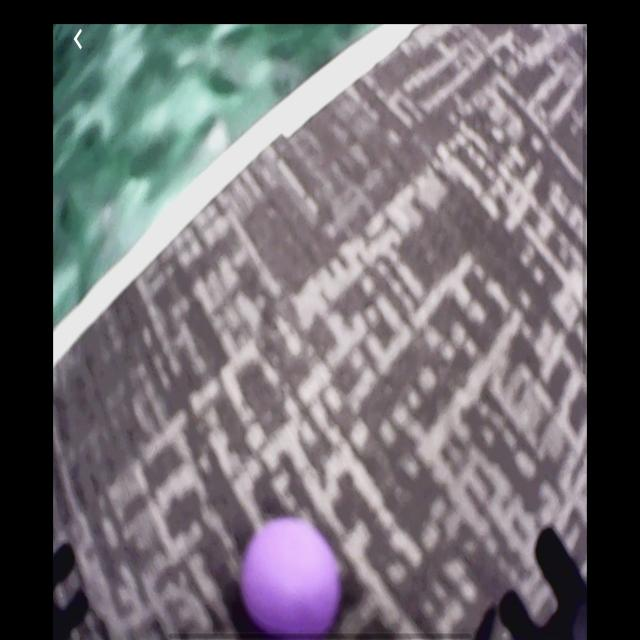ball: (242, 508, 344, 634)
